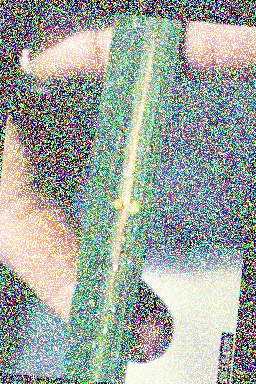Leaf_Blast: (104, 23, 148, 356)
